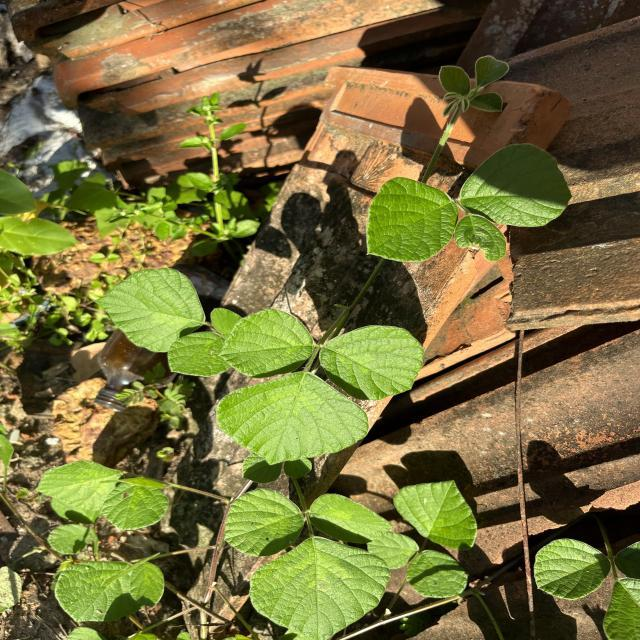Pseudarthria viscida: (214, 306, 427, 466), (222, 486, 394, 640), (363, 141, 574, 265)
